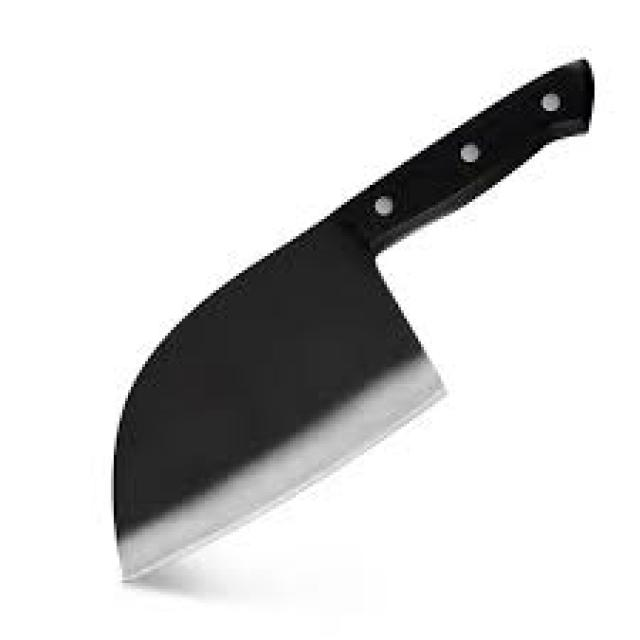Knife: (111, 54, 594, 580)
